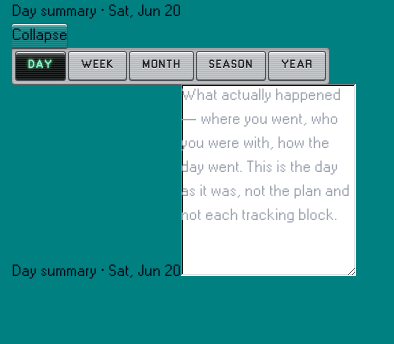
Test case: TrackingDayNotes › says so when a full origin kept the summary out of storage
In the text box labelled "Day summary · Sat, Jun 20": (268, 180) [181,84,356,276], type "zoo 4-5"
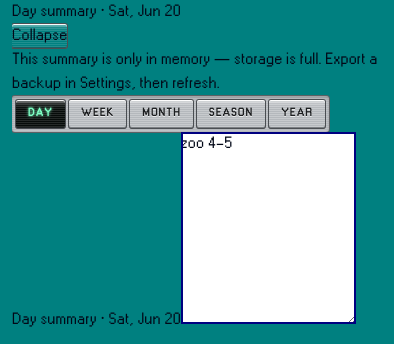
Check: the message shows "only in memory", box [12,52,378,91]
